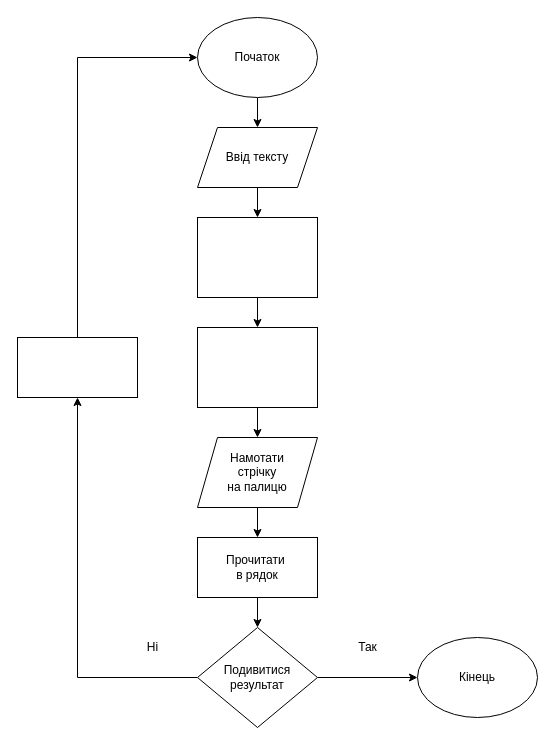
The diagram is 555 pixels wide and 745 high, and some of its shapes have lost their labels. The shapes that lost their labels are listed below. From the top down, each one's centre as x and y in pixels, then its label:
At (x=257, y=257): "Оприділити кількість написанного тексту".
At (x=77, y=367): "Перевірити правильність виконання".
At (x=257, y=367): "Записати в стовбчик кожну 3ю букву".
